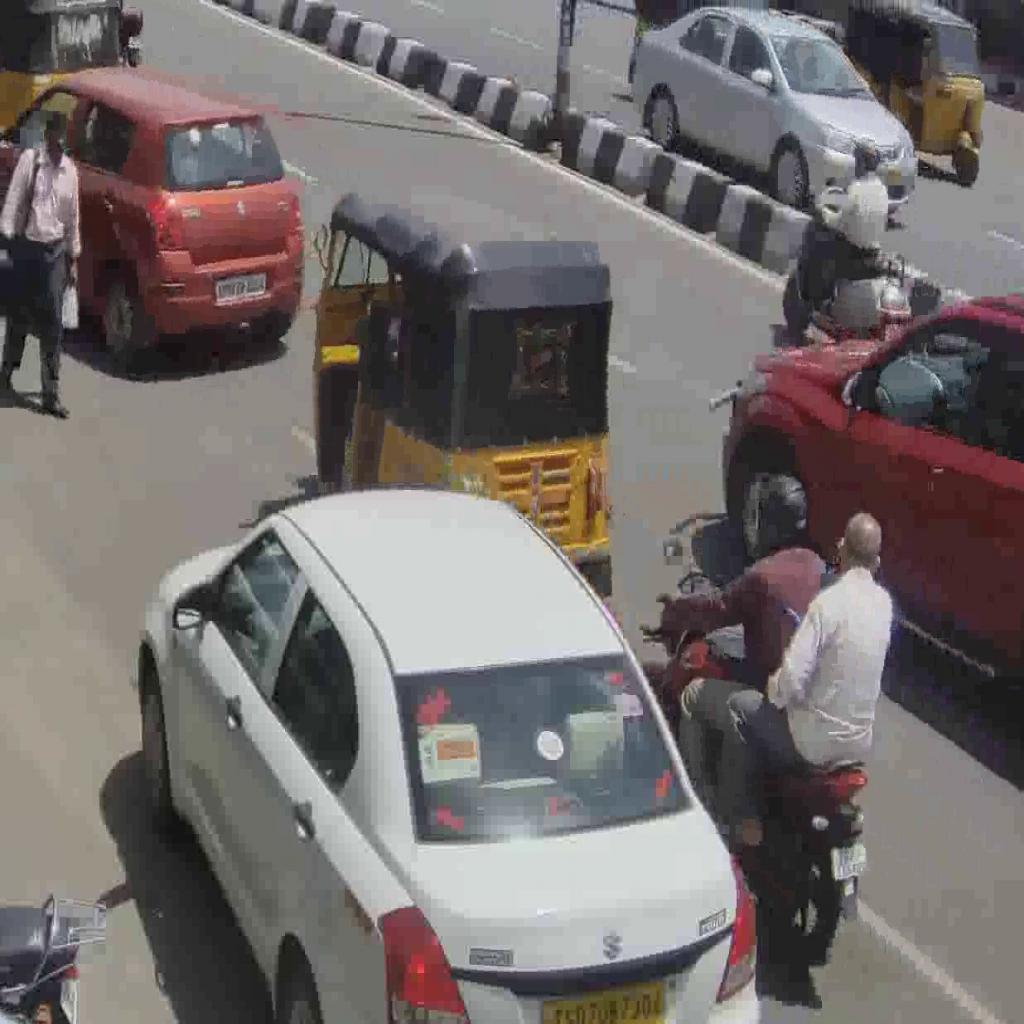helmet: (641, 564, 871, 978), (780, 182, 913, 345), (800, 133, 888, 309)
